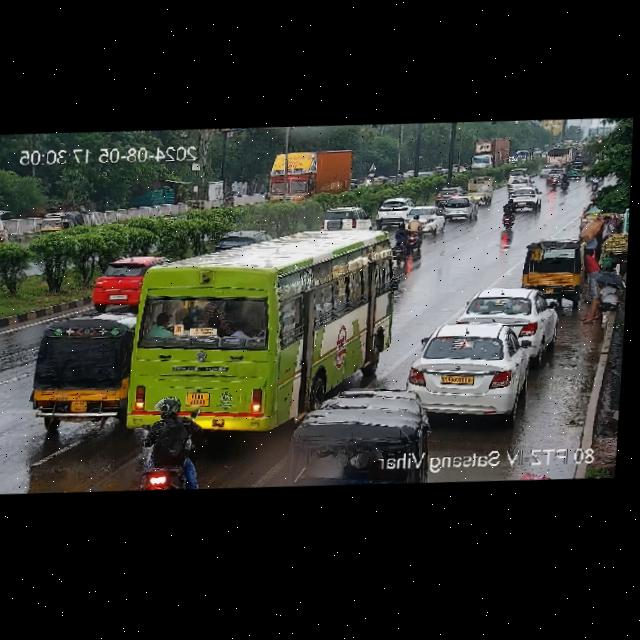bus: (111, 214, 402, 444)
car: (9, 313, 134, 435), (401, 322, 533, 425), (451, 282, 559, 375), (74, 249, 166, 316), (519, 240, 585, 311), (31, 198, 82, 247), (215, 223, 274, 260), (320, 207, 374, 238), (402, 205, 450, 239), (371, 190, 412, 227), (499, 185, 542, 215), (441, 192, 480, 223), (428, 185, 461, 208), (503, 163, 532, 187), (566, 160, 584, 179), (0, 207, 7, 249), (369, 173, 387, 189), (536, 164, 552, 179)
motorcycle: (131, 395, 204, 492), (387, 220, 411, 268), (497, 196, 521, 231), (406, 214, 425, 256), (582, 174, 602, 199), (557, 169, 571, 193), (544, 170, 559, 192), (221, 196, 232, 208)
person: (580, 271, 621, 325), (575, 245, 601, 311), (580, 218, 600, 259), (596, 212, 619, 247), (226, 186, 237, 206)
truck: (263, 148, 352, 212), (465, 134, 509, 178), (541, 145, 574, 166)
